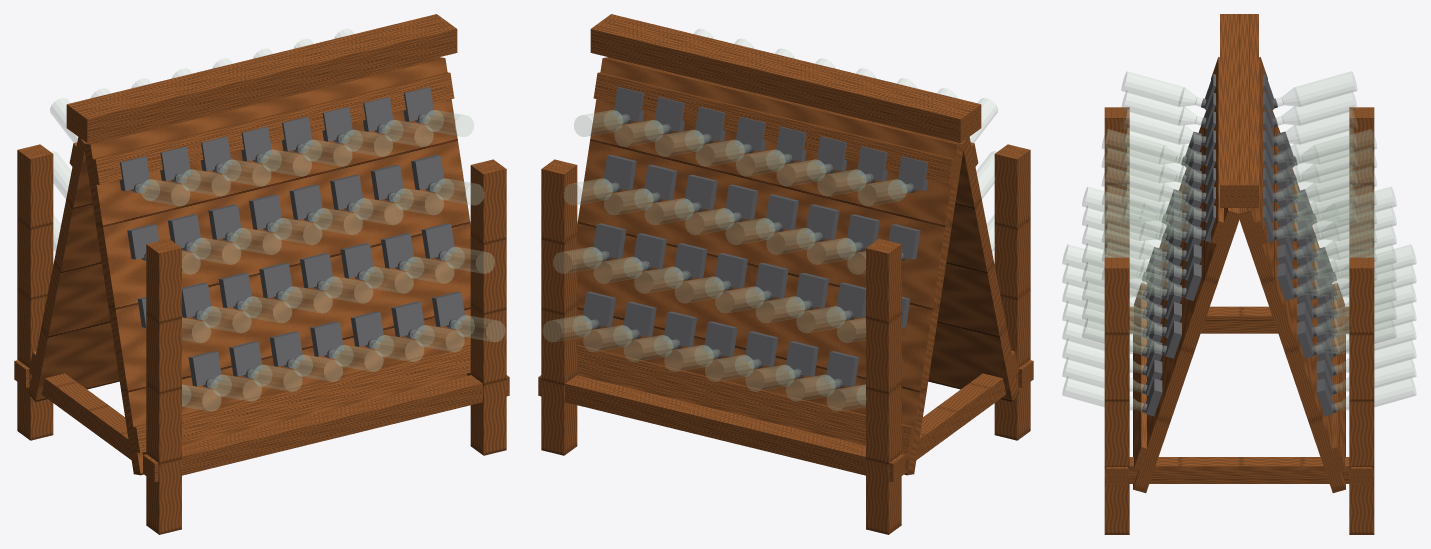
The model's file is riddling-rack.glb.
3 views of the same model, side by side, from view 1: azimuth 30°, elevation 25°; view 2: azimuth 150°, elevation 25°; view 3: azimuth 270°, elevation 25° (orthographic). The views are drawn at different scales.
Visible parts, largest first — view 1: rack/timber, riddling-rack-timber, rack/glass, rack/dark; view 2: rack/timber, riddling-rack-timber, rack/glass, rack/dark; view 3: rack/glass, riddling-rack-timber, rack/timber, rack/dark.
Boxes of the visible parts, bbox=[...] form: rack/timber: bbox=[28, 14, 470, 475]; riddling-rack-timber: bbox=[14, 144, 509, 534]; rack/glass: bbox=[50, 29, 504, 411]; rack/dark: bbox=[119, 87, 465, 388]; rack/timber: bbox=[577, 14, 1019, 475]; riddling-rack-timber: bbox=[538, 144, 1033, 534]; rack/glass: bbox=[543, 29, 997, 411]; rack/dark: bbox=[582, 87, 928, 388]; rack/glass: bbox=[1062, 71, 1416, 410]; riddling-rack-timber: bbox=[1104, 107, 1374, 534]; rack/timber: bbox=[1133, 14, 1345, 492]; rack/dark: bbox=[1142, 74, 1336, 416].
Size of the model in its own units: 1.46 by 1.41 by 1.28.
Materials: 3 (1 with a texture image).
